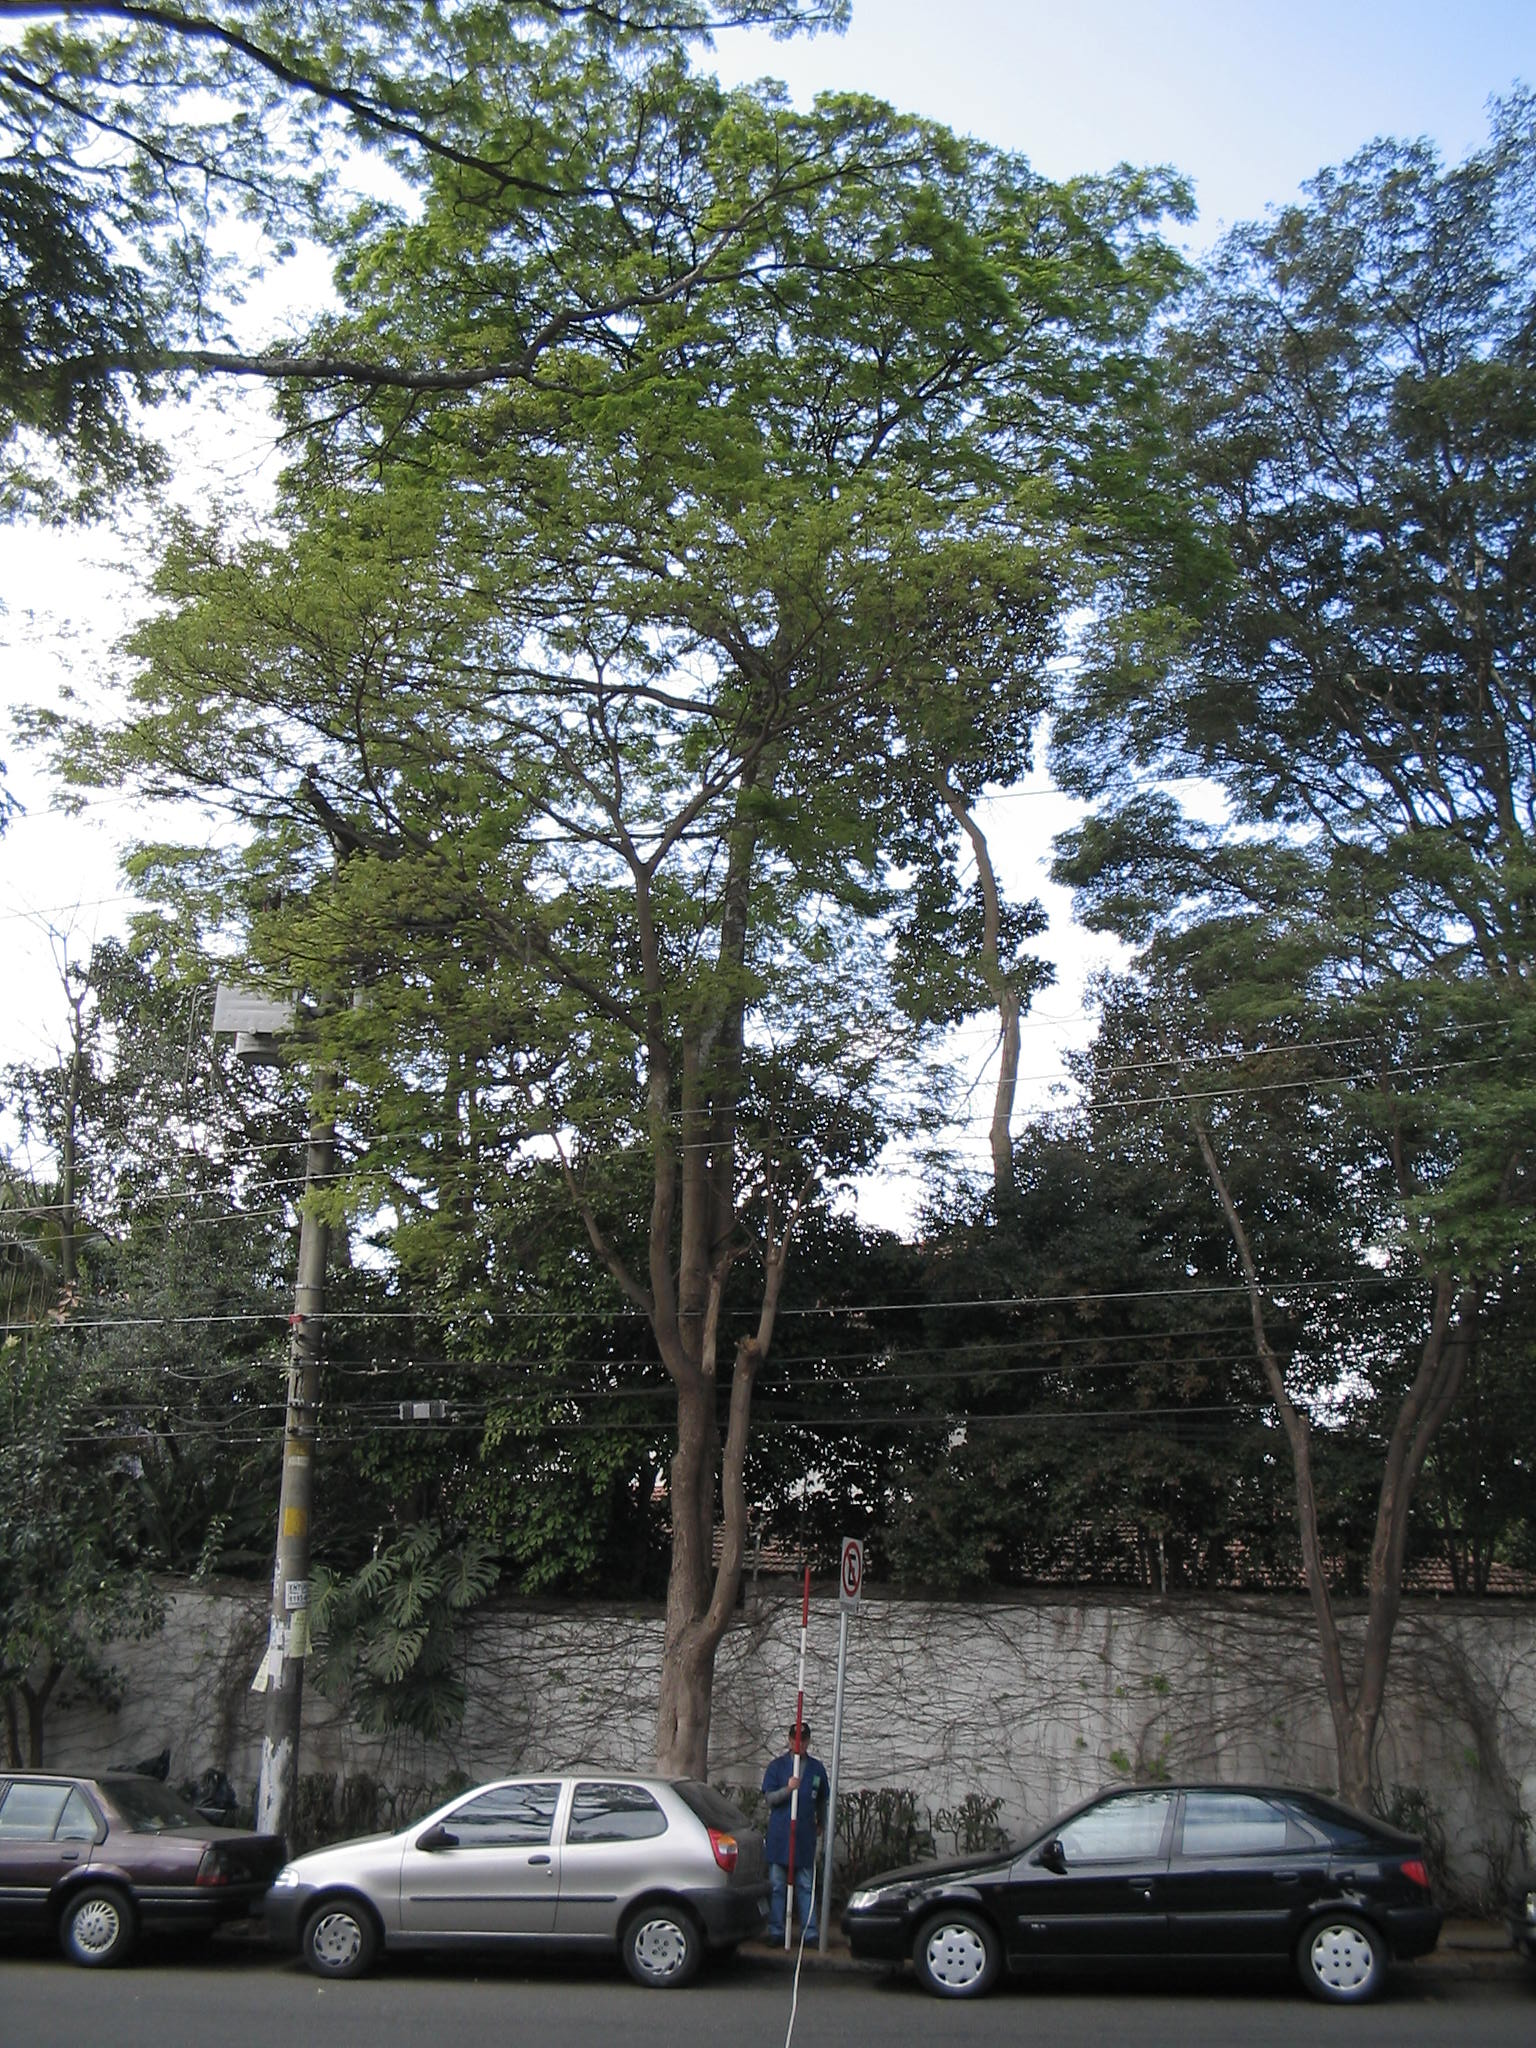crown: (58, 65, 1221, 1332)
stem: (628, 1638, 741, 1948), (1313, 1722, 1418, 1940)
stick: (766, 1569, 821, 1950)
tree: (48, 61, 1229, 1946), (1055, 822, 1536, 1946)
